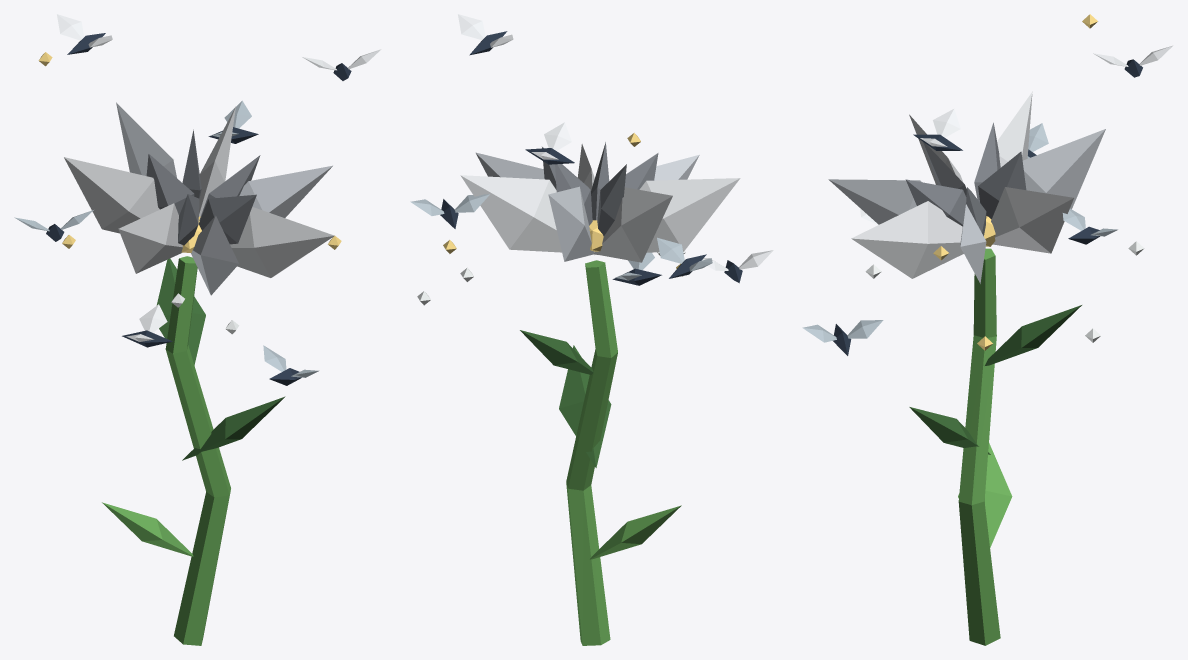
The model's file is SwarmBloom.obj.
3 views of the same model, side by side, from view 1: azimuth 30°, elevation 25°; view 2: azimuth 150°, elevation 25°; view 3: azimuth 270°, elevation 25° (orthographic).
Size of the model in its own units: 1.33 by 2.35 by 1.36.
